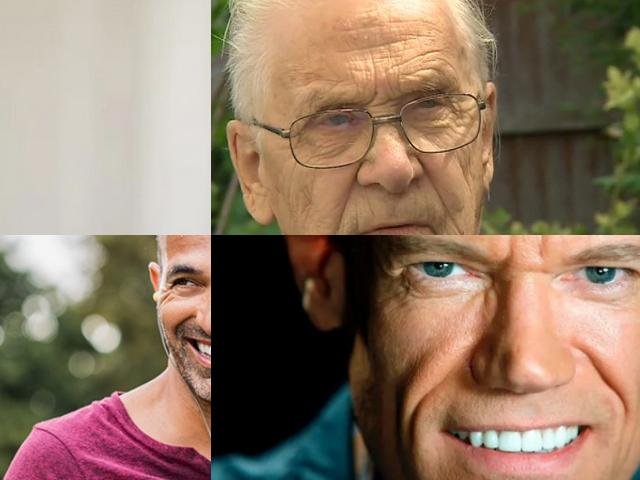crows_feet: (381, 256, 405, 292), (446, 100, 466, 126), (289, 122, 309, 148), (158, 284, 172, 304)
forehead: (305, 73, 349, 90), (364, 33, 402, 51), (390, 13, 432, 29), (412, 44, 446, 60), (404, 27, 436, 43), (404, 64, 440, 78), (367, 57, 383, 85)
frown_line: (368, 90, 400, 110), (531, 235, 547, 265)
gummy_smile: (582, 354, 630, 410), (404, 392, 421, 452), (420, 159, 444, 199), (340, 174, 360, 220), (170, 312, 193, 330)
masseter: (454, 156, 480, 190), (298, 182, 316, 212), (319, 229, 337, 235)
sad_smile: (427, 226, 453, 235)
